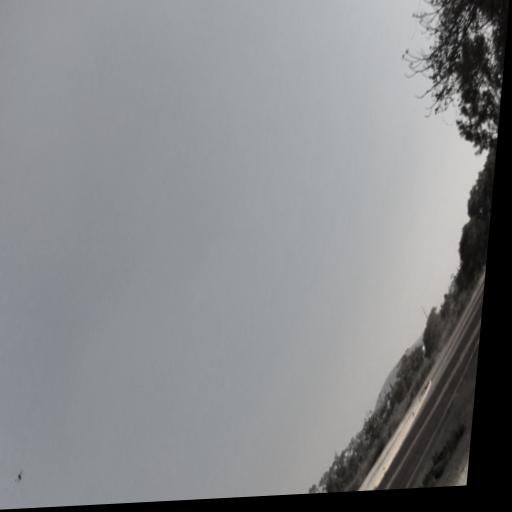drones: (13, 467, 25, 487)
